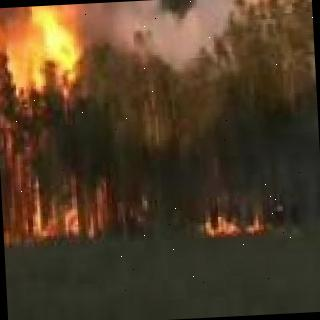fire: (0, 3, 100, 245), (196, 206, 282, 235)
